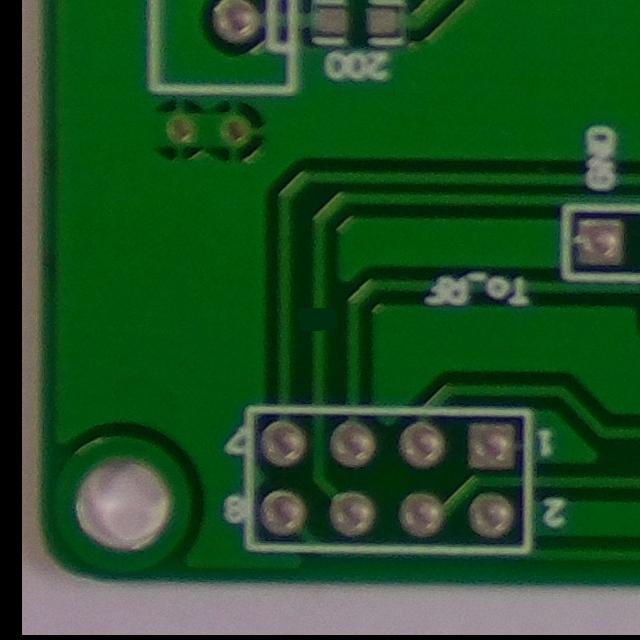open_circuit: (303, 297, 336, 343)
